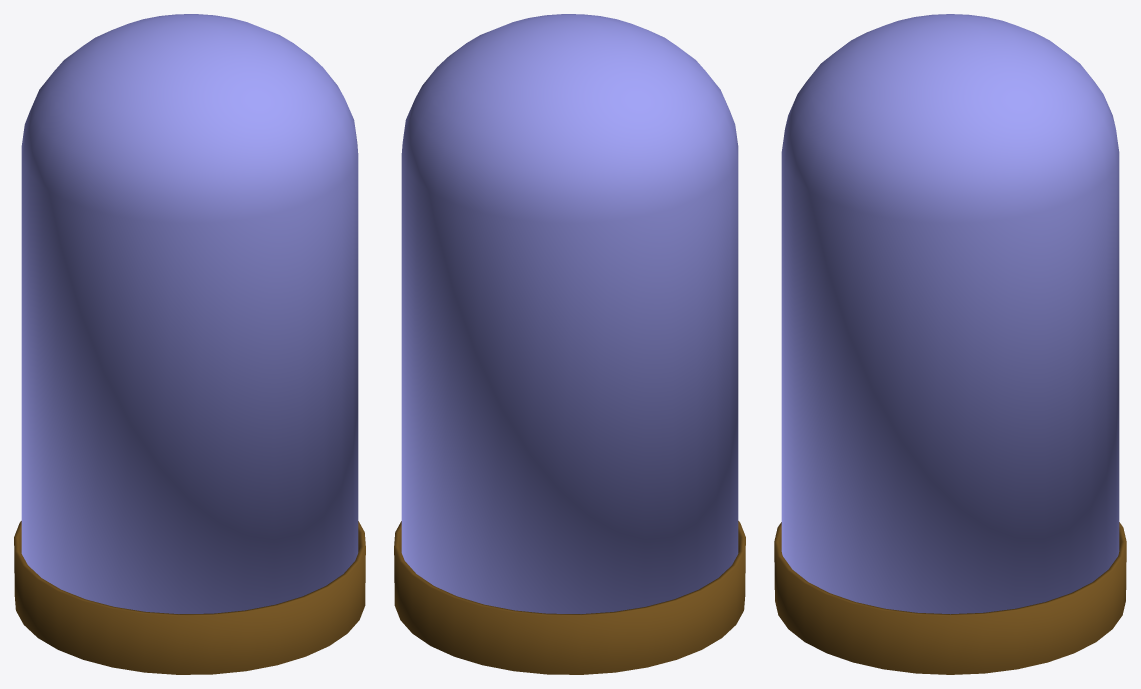
Rendered from Glass_dome_2.fbx.
The picture shows the model from 3 angles, left to right: view 1: azimuth 30°, elevation 25°; view 2: azimuth 150°, elevation 25°; view 3: azimuth 270°, elevation 25°; orthographic projection.
Visible parts, largest first — view 1: Glass_dome_2; view 2: Glass_dome_2; view 3: Glass_dome_2.
Part boxes in pixels (bbox=[...]): Glass_dome_2: bbox=[14, 14, 365, 674]; Glass_dome_2: bbox=[394, 14, 745, 674]; Glass_dome_2: bbox=[774, 14, 1126, 674].
Bounding box in the file's own units: 9 × 16 × 9.
